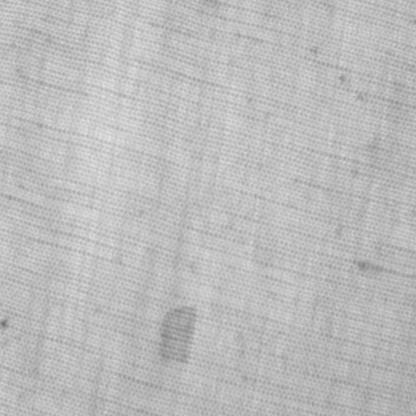oil spot: (154, 302, 200, 368)
